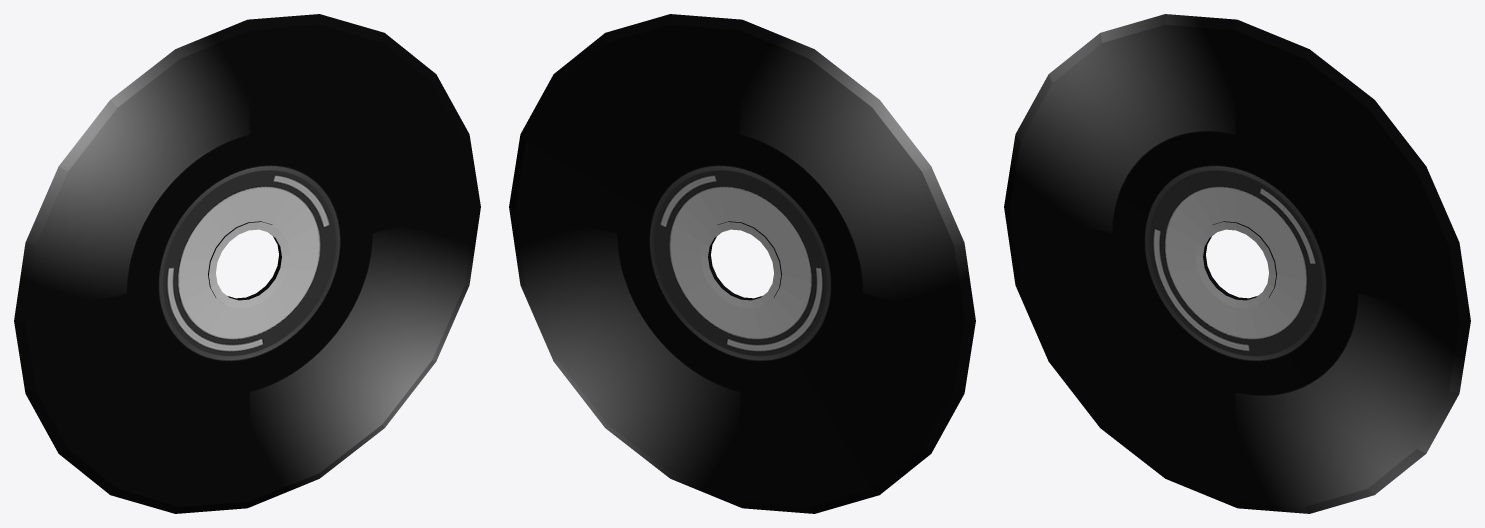
Rendered from vinile.fbx.
The picture shows the model from 3 angles, left to right: view 1: azimuth 30°, elevation 25°; view 2: azimuth 150°, elevation 25°; view 3: azimuth 330°, elevation 25°; orthographic projection.
Parts seen in each view (by area): view 1: vinile5; view 2: vinile5; view 3: vinile5.
Boxes of the visible parts, x1,y1,x2,y2 form: vinile5: (14,14,480,513); vinile5: (509,14,975,513); vinile5: (1004,14,1470,513).
Size of the model in its own units: 27.7 by 27.7 by 0.5373.
